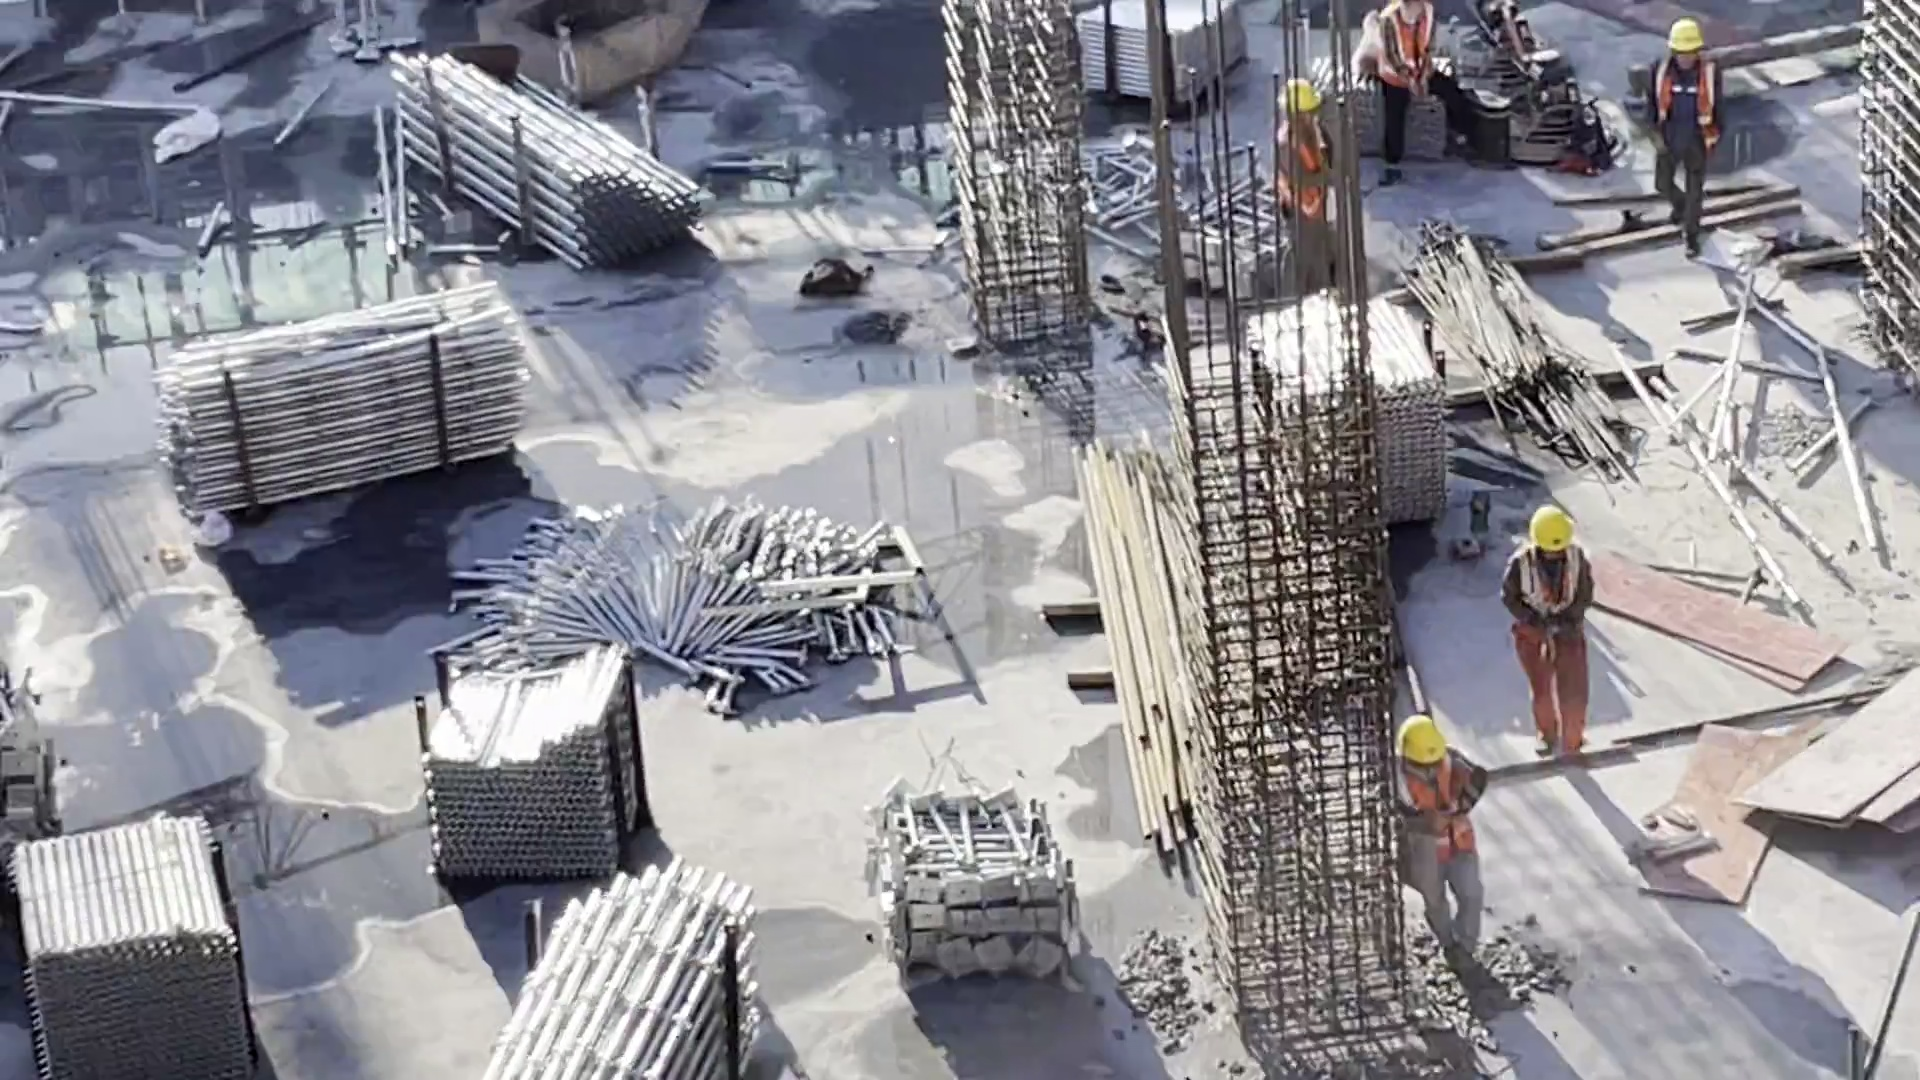board: (1747, 667, 1920, 843)
helmet: (1396, 709, 1460, 771), (1526, 506, 1582, 550), (1669, 17, 1711, 52), (1288, 79, 1323, 113)
hopper: (464, 1, 718, 105)
person: (1385, 712, 1493, 985), (1501, 498, 1600, 761), (1381, 1, 1474, 201), (1647, 16, 1712, 254), (1269, 75, 1345, 261)
scaffold: (461, 487, 885, 674), (171, 294, 542, 488), (395, 42, 692, 256), (487, 883, 751, 1080), (40, 792, 242, 1049), (418, 650, 650, 864), (1256, 285, 1456, 527), (864, 780, 1083, 962), (1081, 140, 1295, 300), (1077, 1, 1241, 114)
vest: (1391, 760, 1481, 854), (1648, 50, 1724, 146), (1379, 7, 1448, 88), (1520, 549, 1586, 632), (1280, 126, 1332, 213)
